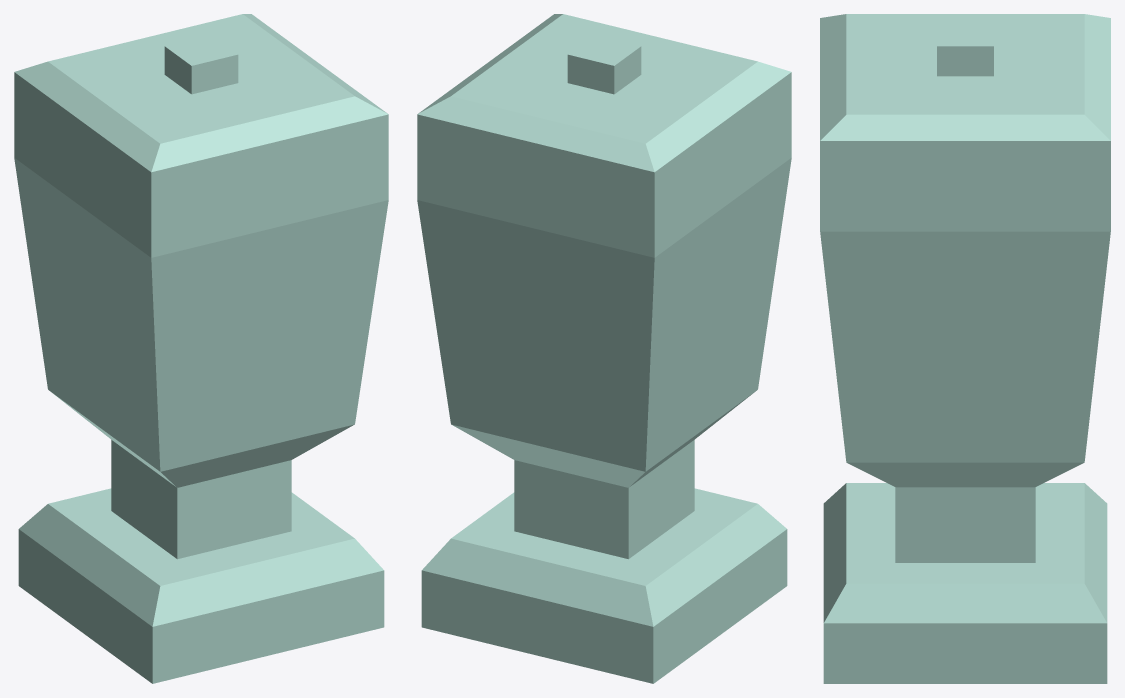
Rendered from urn.glb.
3 renders of one model, left to right at view 1: azimuth 30°, elevation 25°; view 2: azimuth 150°, elevation 25°; view 3: azimuth 270°, elevation 25°, orthographic. The views are drawn at different scales.
Visible parts, largest first — view 1: urn(Clone), urnLid; view 2: urn(Clone), urnLid; view 3: urn(Clone), urnLid.
Boxes of the visible parts, <box> form: urn(Clone): <box>14,101,388,683</box>; urnLid: <box>14,14,388,200</box>; urn(Clone): <box>417,101,791,683</box>; urnLid: <box>417,14,791,200</box>; urn(Clone): <box>820,171,1110,683</box>; urnLid: <box>820,14,1110,171</box>.
Size of the model in its own units: 0.1742 by 0.39 by 0.1742.
